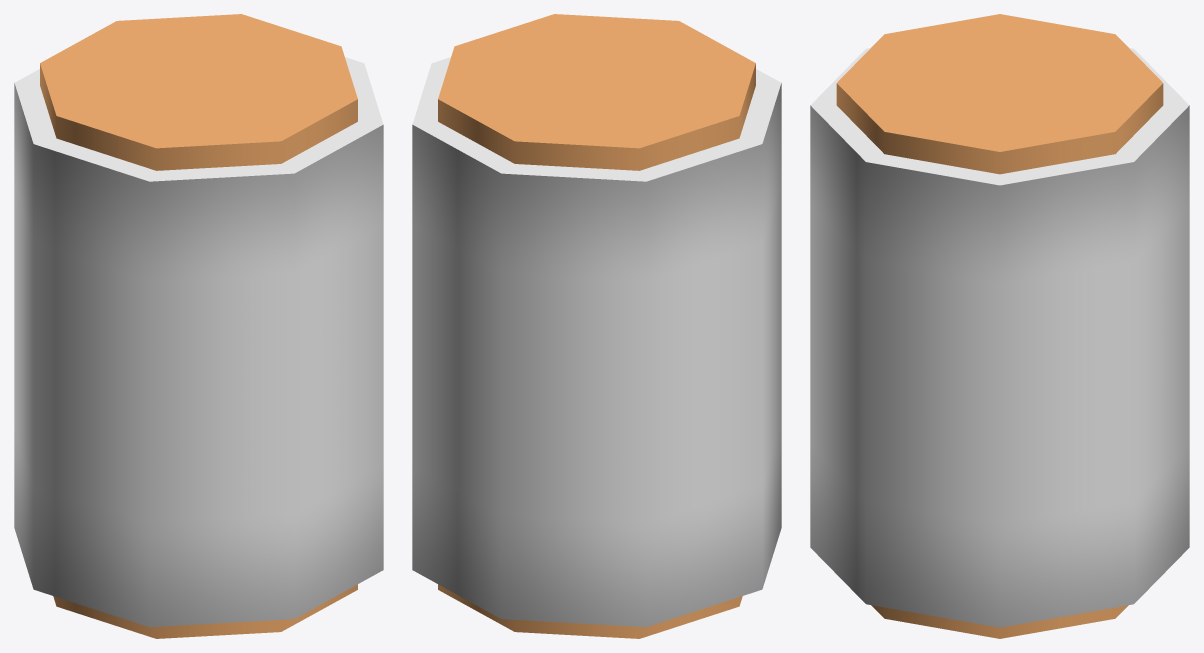
File: spool-4.fbx
3 renders of one model, left to right at view 1: azimuth 30°, elevation 25°; view 2: azimuth 150°, elevation 25°; view 3: azimuth 270°, elevation 25°, orthographic.
Parts seen in each view (by area): view 1: spool-4; view 2: spool-4; view 3: spool-4.
Part boxes in pixels (bbox=[...]): spool-4: bbox=[14, 14, 383, 638]; spool-4: bbox=[412, 14, 781, 638]; spool-4: bbox=[810, 14, 1189, 638].
Size of the model in its own units: 8.62 by 12.22 by 8.62.
Materials: 2 (2 with a texture image).
